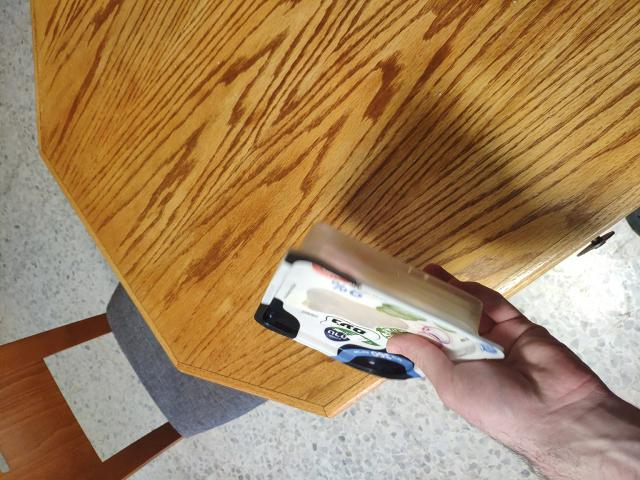cheese: (265, 227, 466, 418)
